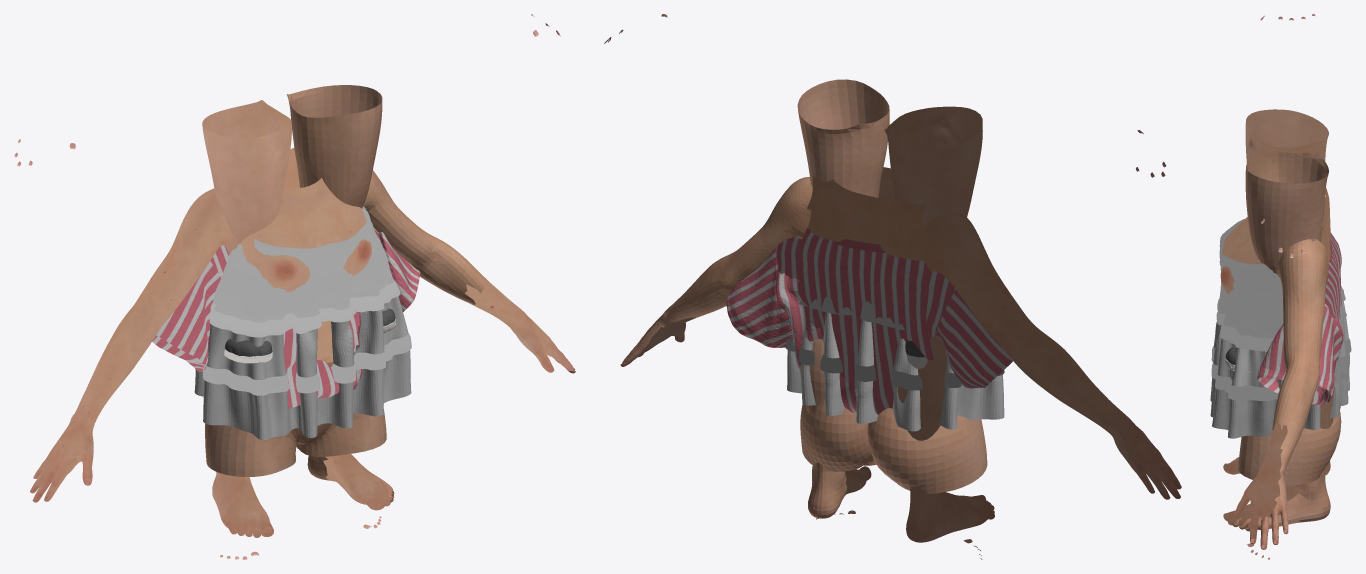
Rendered from femaleAvatar.glb.
The picture shows the model from 3 angles, left to right: view 1: azimuth 30°, elevation 25°; view 2: azimuth 150°, elevation 25°; view 3: azimuth 270°, elevation 25°; orthographic projection. The views are drawn at different scales.
Parts seen in each view (by area): view 1: Skirt_blinn2_0, Full_Body_Legs1_0, Full_Body_Arms1_0, Full_Body_Body1_0, T_Shirt_blinn1_0, Shoes_blinn3_0; view 2: Full_Body_Legs1_0, T_Shirt_blinn1_0, Full_Body_Arms1_0, Full_Body_Body1_0, Skirt_blinn2_0; view 3: Full_Body_Legs1_0, Skirt_blinn2_0, Full_Body_Arms1_0, Full_Body_Body1_0, T_Shirt_blinn1_0, Full_Body_Fingernails1_0, Shoes_blinn3_0.
Boxes of the visible parts, x1=… form: Skirt_blinn2_0: x1=194, y1=206, x2=411, y2=440; Full_Body_Legs1_0: x1=202, y1=85, x2=394, y2=537; Full_Body_Arms1_0: x1=30, y1=170, x2=575, y2=502; Full_Body_Body1_0: x1=205, y1=148, x2=386, y2=476; T_Shirt_blinn1_0: x1=152, y1=228, x2=420, y2=408; Shoes_blinn3_0: x1=224, y1=308, x2=396, y2=363; Full_Body_Legs1_0: x1=797, y1=79, x2=994, y2=542; T_Shirt_blinn1_0: x1=726, y1=227, x2=1013, y2=414; Full_Body_Arms1_0: x1=620, y1=176, x2=1181, y2=499; Full_Body_Body1_0: x1=800, y1=167, x2=987, y2=493; Skirt_blinn2_0: x1=785, y1=296, x2=1004, y2=431; Full_Body_Legs1_0: x1=1223, y1=109, x2=1333, y2=531; Skirt_blinn2_0: x1=1210, y1=219, x2=1351, y2=438; Full_Body_Arms1_0: x1=1233, y1=239, x2=1328, y2=549; Full_Body_Body1_0: x1=1220, y1=188, x2=1341, y2=485; T_Shirt_blinn1_0: x1=1257, y1=228, x2=1343, y2=405; Full_Body_Fingernails1_0: x1=1247, y1=14, x2=1315, y2=559; Shoes_blinn3_0: x1=1225, y1=347, x2=1250, y2=372.
Bounding box in the file's own units: 38915 × 31082 × 9755.
12 materials, 12 textured.
